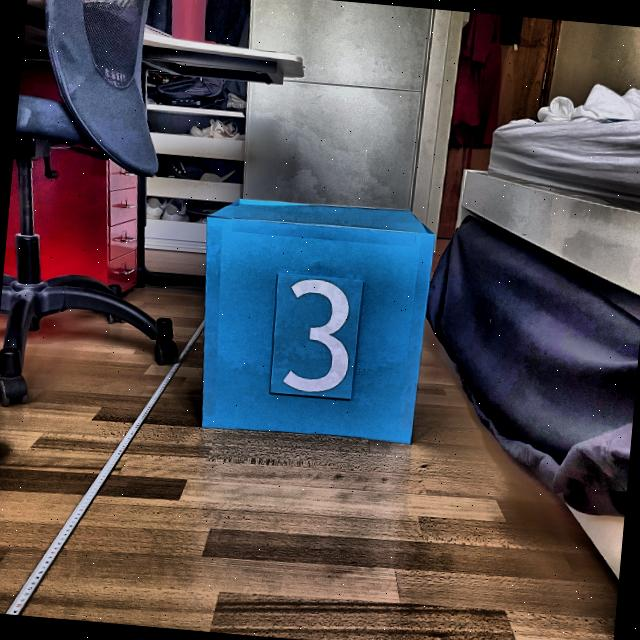blue box: (184, 190, 438, 448)
three: (280, 274, 360, 396)
